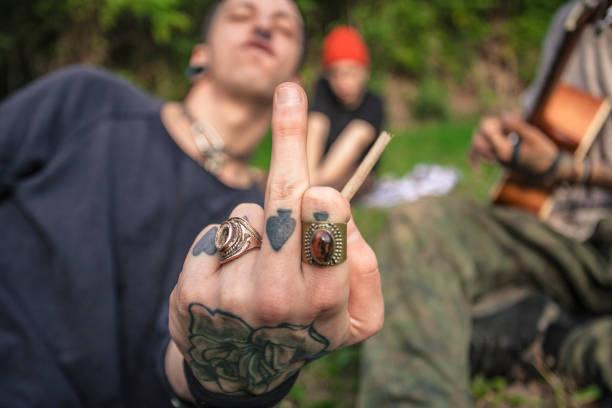insulting_gesture: (168, 79, 382, 388)
